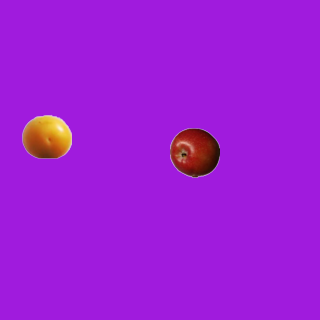Apple Braeburn: (169, 127, 219, 177)
Cherry Wax Yellow: (21, 111, 71, 161)
